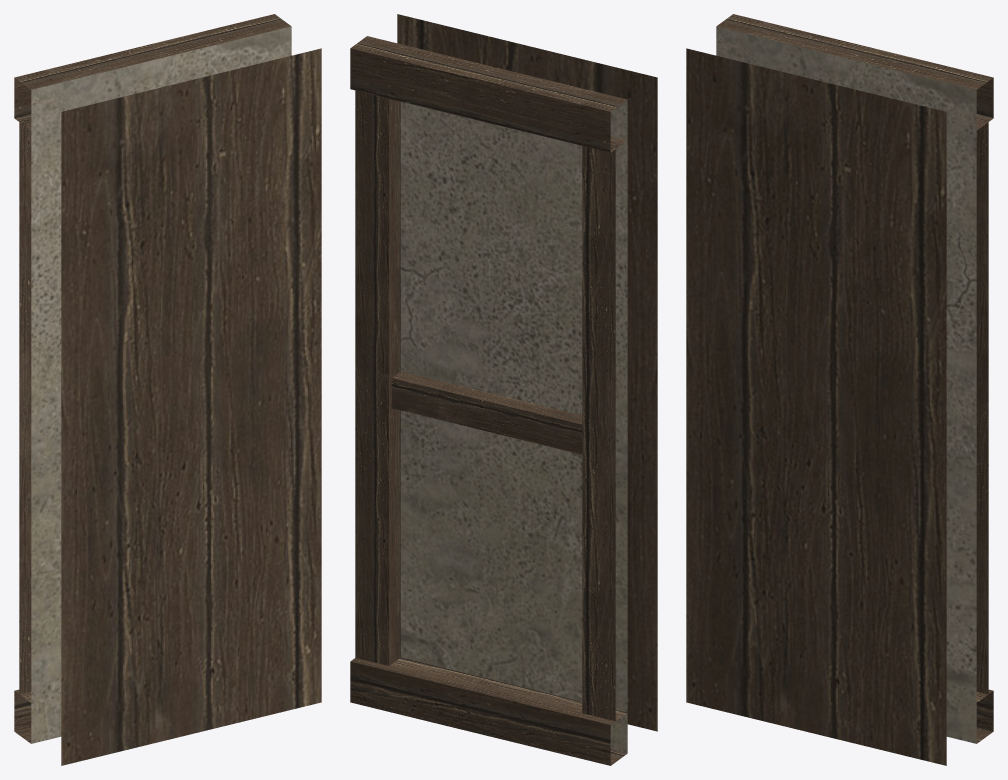
File: ARC1010249.fbx
3 renders of one model, left to right at view 1: azimuth 30°, elevation 25°; view 2: azimuth 150°, elevation 25°; view 3: azimuth 330°, elevation 25°, orthographic.
Visible parts, largest first — view 1: smARC1010249; view 2: smARC1010249; view 3: smARC1010249.
Boxes of the visible parts, x1=… form: smARC1010249: x1=14, y1=14, x2=321, y2=765; smARC1010249: x1=350, y1=14, x2=657, y2=765; smARC1010249: x1=686, y1=14, x2=993, y2=765.
Size of the model in its own units: 112 by 268 by 34.9.
Materials: 1 (1 with a texture image).
